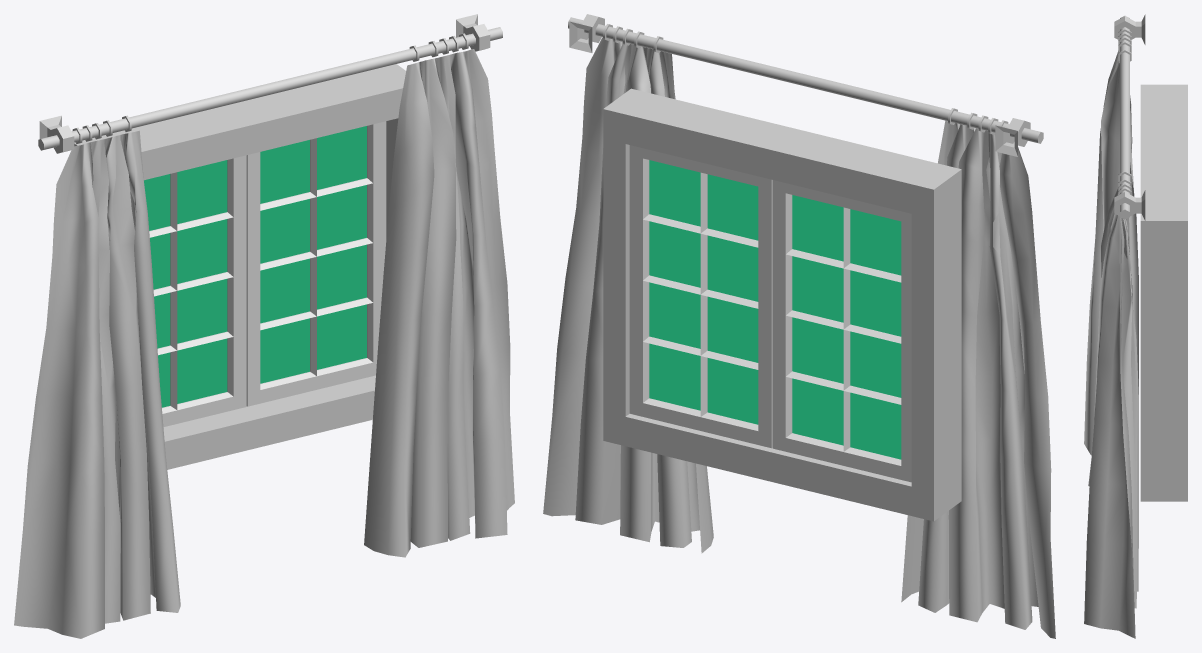
File: jiaju_010.fbx
3 renders of one model, left to right at view 1: azimuth 30°, elevation 25°; view 2: azimuth 150°, elevation 25°; view 3: azimuth 270°, elevation 25°, orthographic. The views are drawn at different scales.
Parts seen in each view (by area): view 1: 立方体.271; view 2: 立方体.271; view 3: 立方体.271.
Boxes of the visible parts, x1,y1,x2,y2 form: 立方体.271: [14, 14, 514, 638]; 立方体.271: [543, 14, 1055, 638]; 立方体.271: [1084, 14, 1187, 638].
Bounding box in the file's own units: 1098 × 1039 × 228.
